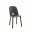chair: (5, 3, 26, 32)
